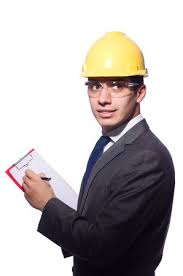Person_wearing_helmet: (79, 27, 148, 99)
